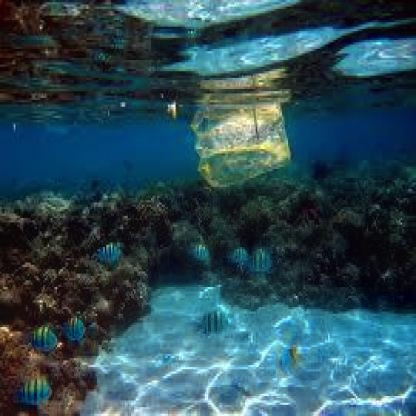pbag: (194, 106, 293, 194)
